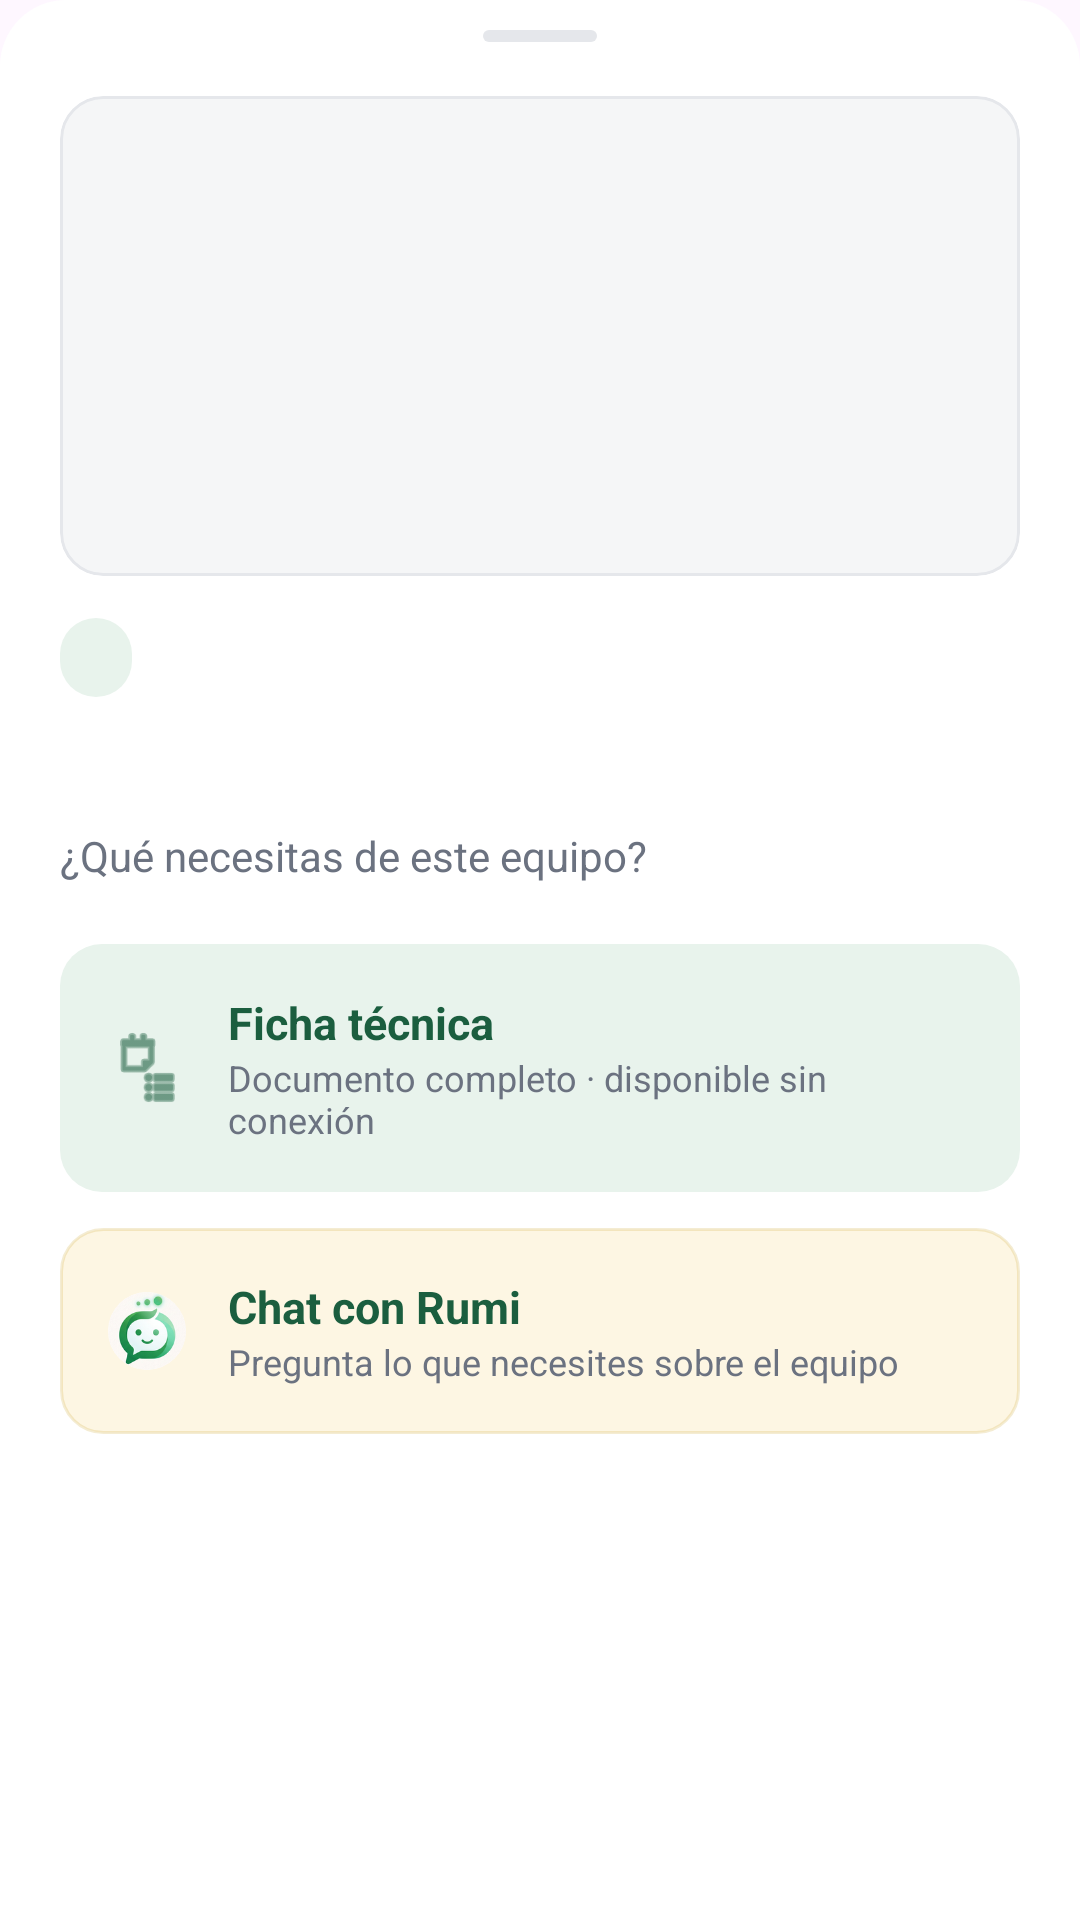

Where to tap for icons on this 1080px x 1920px app screen, as (x,y):
agenda: (147,1067)
